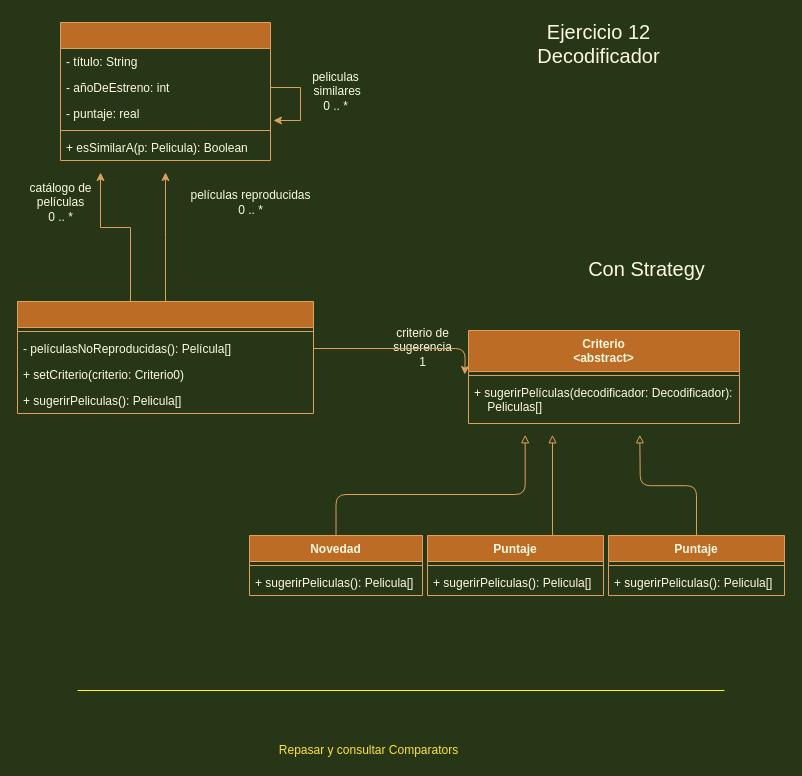
This 802x776 diagram has some shape labels left out. The shapes that lost their labels are listed below. From the top down, each one's box as (x1, y1, x2, y2) in pixels, then its label:
(60, 22, 270, 160): Película
(16, 300, 314, 414): Decodificador
